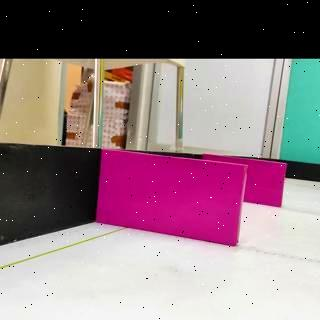xparking: (98, 148, 245, 246), (243, 157, 285, 209)
